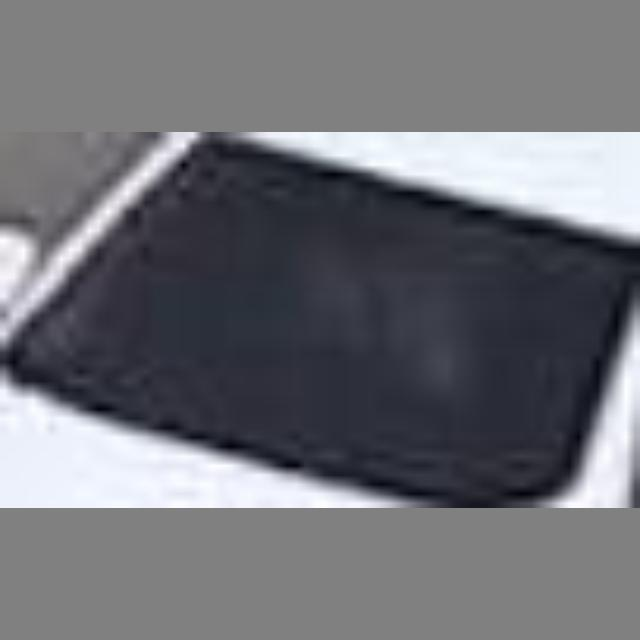pakai: (235, 198, 527, 443)
